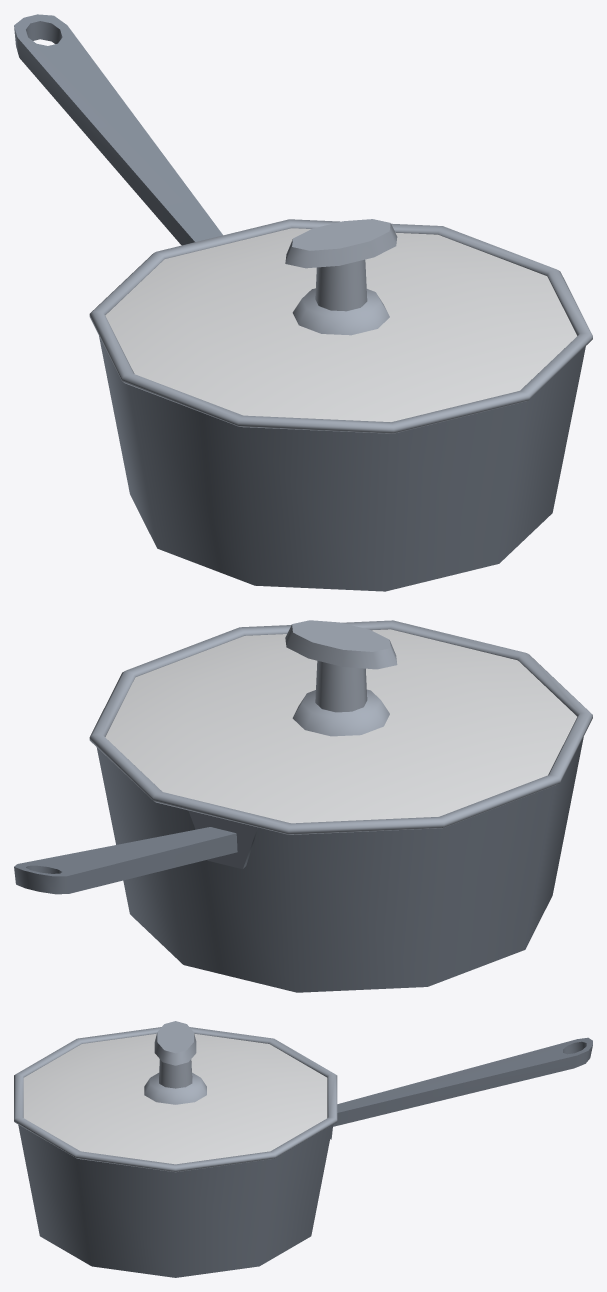
The model's file is pan_sauce_pan_large_001.glb.
3 views of the same model, one above another, from view 1: azimuth 30°, elevation 25°; view 2: azimuth 150°, elevation 25°; view 3: azimuth 270°, elevation 25° (orthographic). The views are drawn at different scales.
Parts seen in each view (by area): view 1: pan_sauce_pan_large.001_Cylinder.073, pan_sauce_pan_large_lid_Cylinder.074; view 2: pan_sauce_pan_large_lid_Cylinder.074, pan_sauce_pan_large.001_Cylinder.073; view 3: pan_sauce_pan_large_lid_Cylinder.074, pan_sauce_pan_large.001_Cylinder.073.
Boxes of the visible parts, x1=… form: pan_sauce_pan_large.001_Cylinder.073: x1=14, y1=14, x2=585, y2=591; pan_sauce_pan_large_lid_Cylinder.074: x1=89, y1=219, x2=592, y2=433; pan_sauce_pan_large_lid_Cylinder.074: x1=89, y1=620, x2=592, y2=834; pan_sauce_pan_large.001_Cylinder.073: x1=14, y1=737, x2=583, y2=992; pan_sauce_pan_large_lid_Cylinder.074: x1=14, y1=1021, x2=337, y2=1172; pan_sauce_pan_large.001_Cylinder.073: x1=18, y1=1037, x2=592, y2=1277.
Size of the model in its own units: 4.45 by 2.61 by 7.58.
2 materials, 2 textured.
